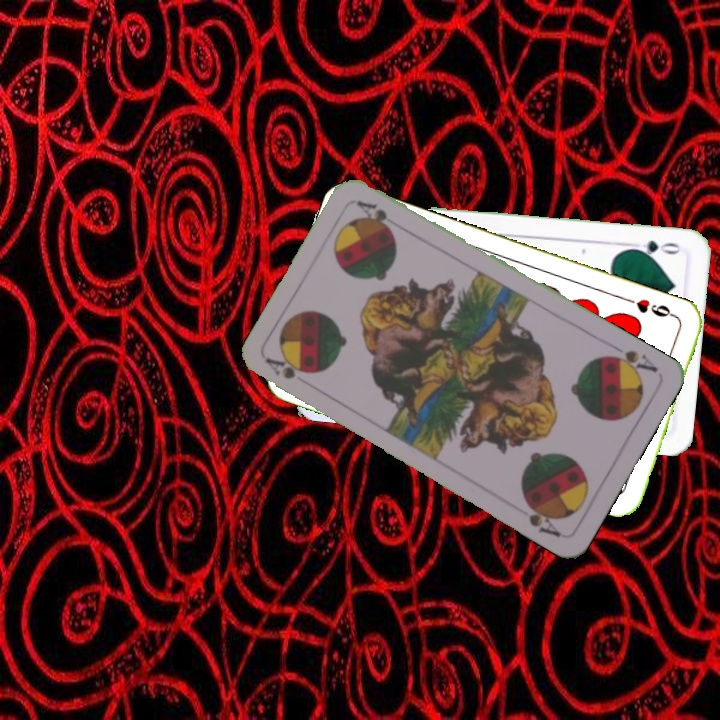GO: (625, 236, 685, 259)
H9: (621, 294, 679, 321)
SA: (601, 340, 661, 379), (262, 354, 311, 382)
